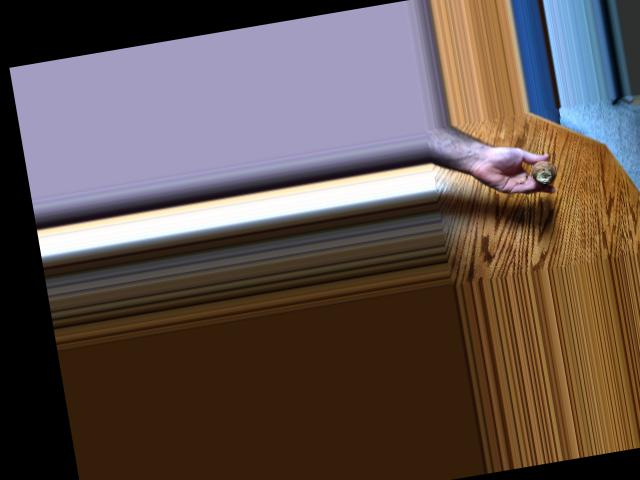sweet_potato: (532, 155, 558, 185)
